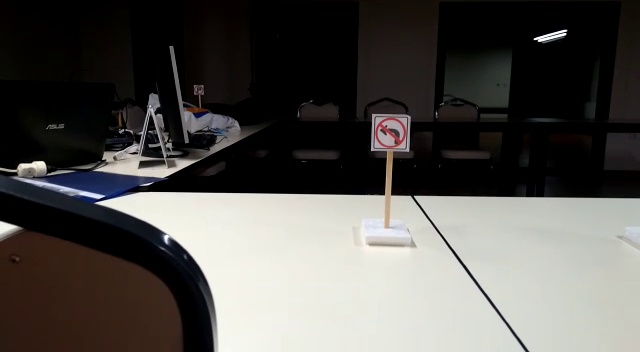sola_donulmez: (374, 116, 410, 151)
